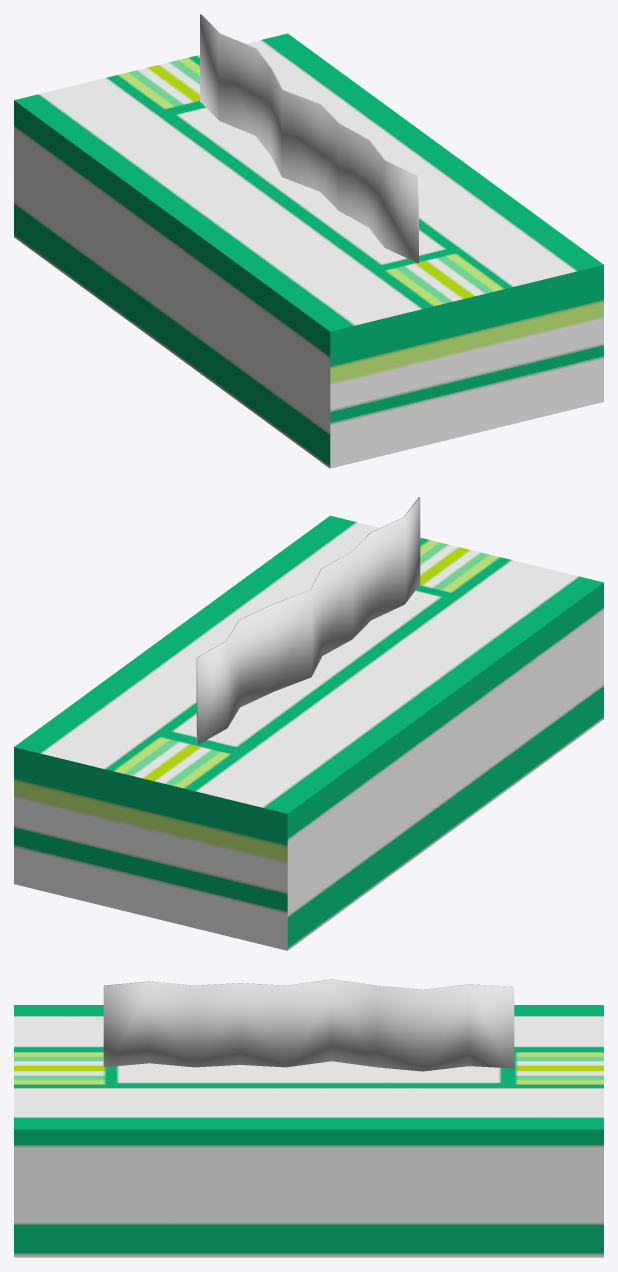
Rendered from facial-tissue.glb.
3 views of the same model, one above another, from view 1: azimuth 30°, elevation 25°; view 2: azimuth 150°, elevation 25°; view 3: azimuth 270°, elevation 25° (orthographic). The views are drawn at different scales.
Visible parts, largest first — view 1: Box, グリッド; view 2: Box, グリッド; view 3: Box, グリッド.
Boxes of the visible parts, x1=… form: Box: x1=14, y1=33, x2=603, y2=468; グリッド: x1=200, y1=14, x2=418, y2=263; Box: x1=14, y1=515, x2=603, y2=950; グリッド: x1=196, y1=497, x2=420, y2=744; Box: x1=14, y1=1005, x2=603, y2=1257; グリッド: x1=103, y1=979, x2=514, y2=1071.
Bounding box in the file's own units: 0.115 × 0.09 × 0.23.
Materials: 2 (1 with a texture image).
